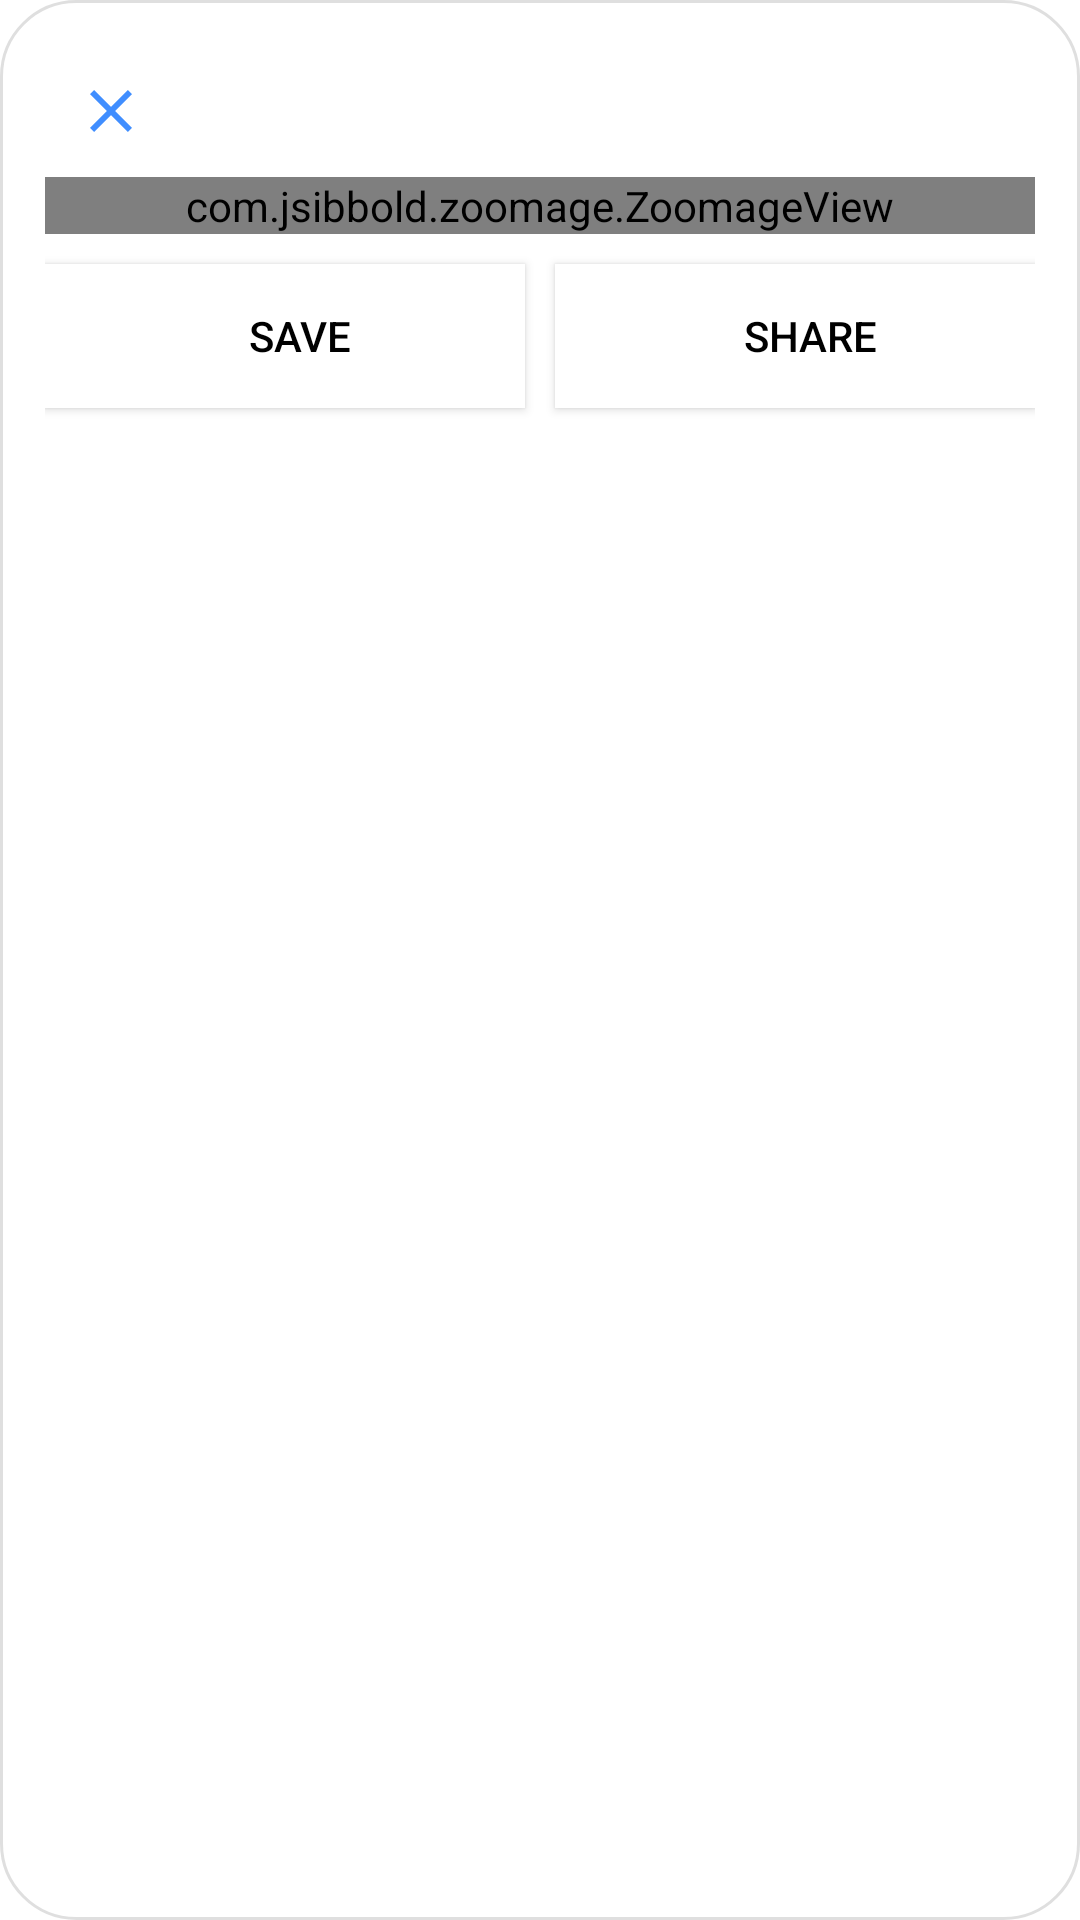

Point at icon controls on the screen. Image size 1080*1920, points as point (x, y).
close: point (111, 111)
